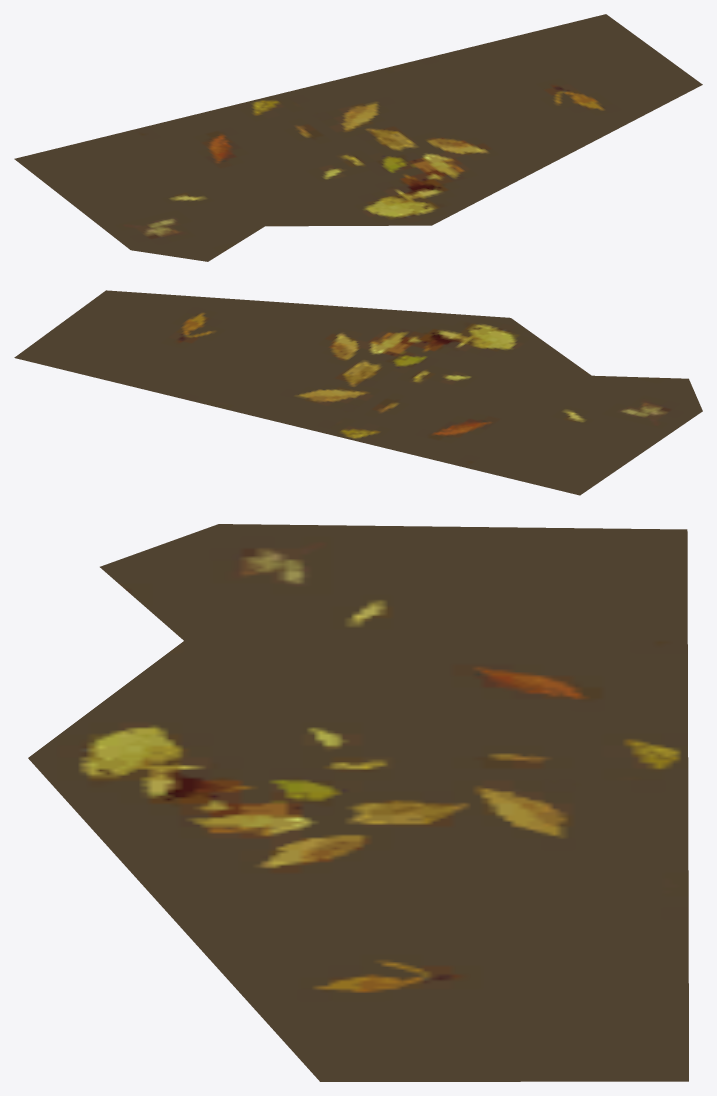
File: S_Plant_Green019_c.FBX
The picture shows the model from 3 angles, top to bottom: view 1: azimuth 30°, elevation 25°; view 2: azimuth 150°, elevation 25°; view 3: azimuth 270°, elevation 25°; orthographic projection. The views are drawn at different scales.
Visible parts, largest first — view 1: S_Plant_Green019_c; view 2: S_Plant_Green019_c; view 3: S_Plant_Green019_c.
Part boxes in pixels (x1,y1,x2,y2): S_Plant_Green019_c: (14,14,702,261); S_Plant_Green019_c: (14,290,702,495); S_Plant_Green019_c: (28,524,688,1081).
Size of the model in its own units: 217 by 0.0407 by 109.
Materials: 1 (1 with a texture image).
